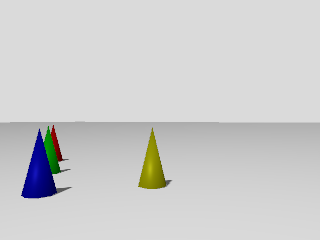blue: (19, 129, 58, 199)
green: (43, 126, 60, 175)
red: (51, 119, 63, 161)
yellow: (136, 124, 167, 191)
